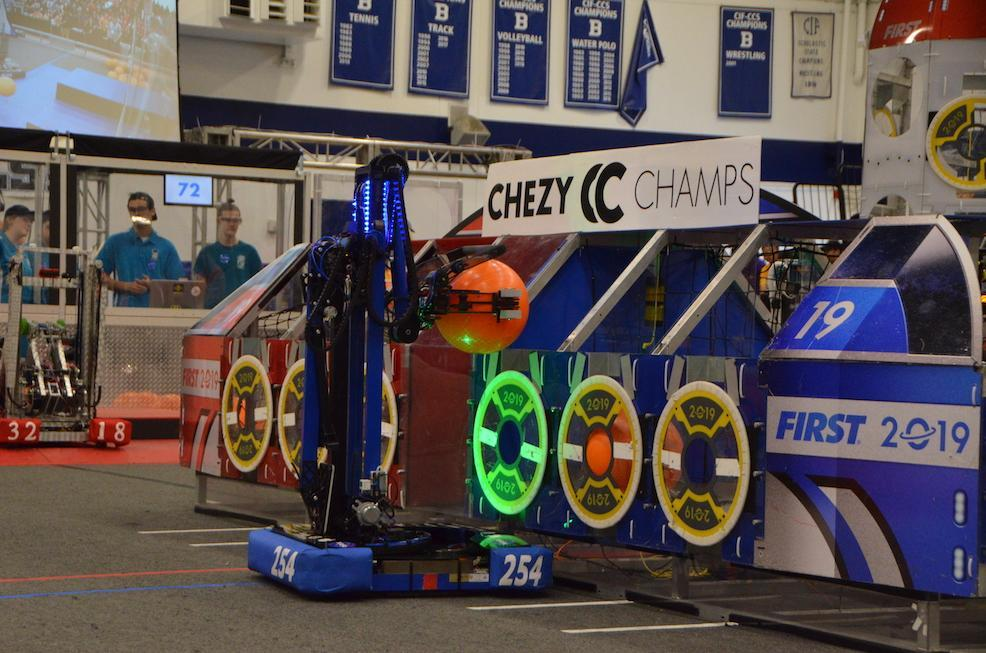robot: (237, 151, 563, 601), (0, 241, 135, 455)
